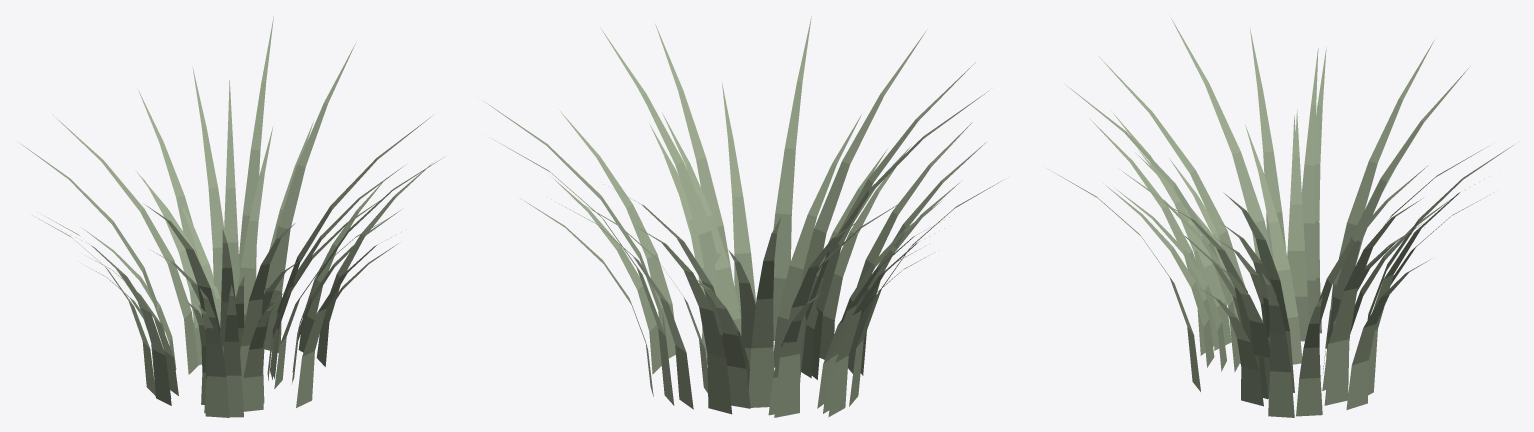
Rendered from plant-meadow.glb.
3 views of the same model, side by side, from view 1: azimuth 30°, elevation 25°; view 2: azimuth 150°, elevation 25°; view 3: azimuth 270°, elevation 25° (orthographic). The views are drawn at different scales.
Visible parts, largest first — view 1: alpine-meadow-tuft; view 2: alpine-meadow-tuft; view 3: alpine-meadow-tuft.
Boxes of the visible parts, bbox=[...] form: alpine-meadow-tuft: bbox=[20, 16, 443, 417]; alpine-meadow-tuft: bbox=[484, 16, 1006, 417]; alpine-meadow-tuft: bbox=[1048, 18, 1513, 417].
Bounding box in the file's own units: 0.6419 × 0.4067 × 0.6219.
